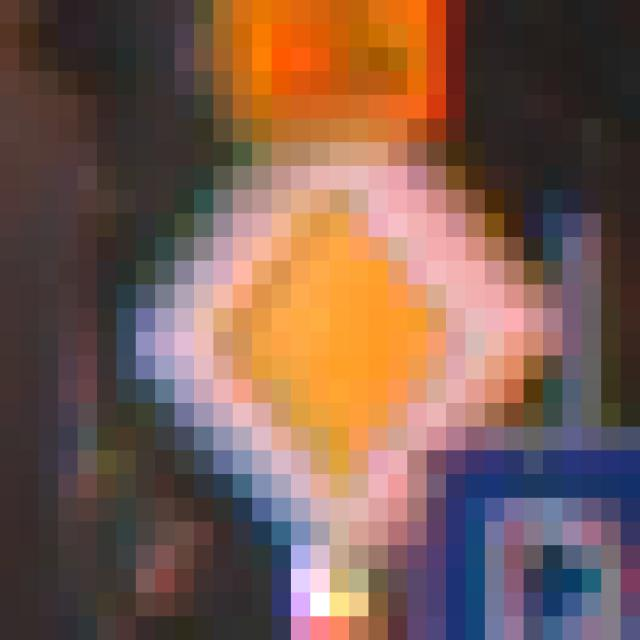Main Road: (117, 120, 544, 523)
